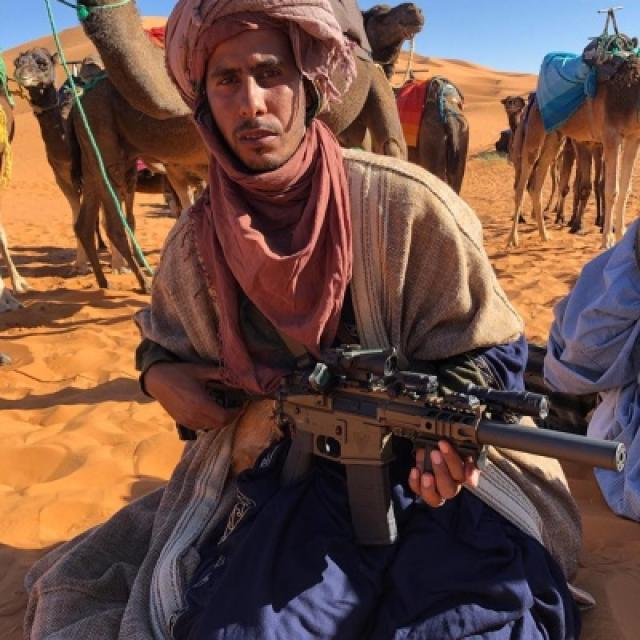rifle: (218, 345, 639, 549)
